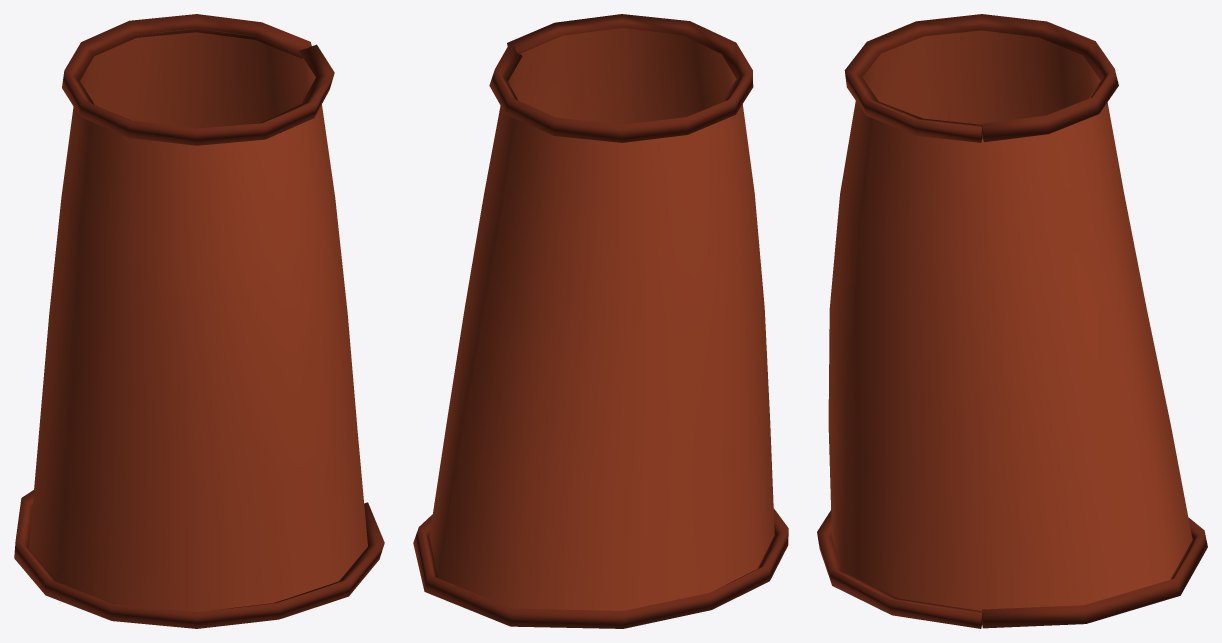
Rendered from meteor_armor_cuisse.L.glb.
3 views of the same model, side by side, from view 1: azimuth 30°, elevation 25°; view 2: azimuth 150°, elevation 25°; view 3: azimuth 270°, elevation 25° (orthographic). The views are drawn at different scales.
Visible parts, largest first — view 1: meteor_armor_cuisse.L; view 2: meteor_armor_cuisse.L; view 3: meteor_armor_cuisse.L.
Boxes of the visible parts, x1=… form: meteor_armor_cuisse.L: x1=14, y1=14, x2=384, y2=628; meteor_armor_cuisse.L: x1=413, y1=14, x2=788, y2=628; meteor_armor_cuisse.L: x1=817, y1=14, x2=1207, y2=628.
Size of the model in its own units: 0.2653 by 0.3856 by 0.284.
